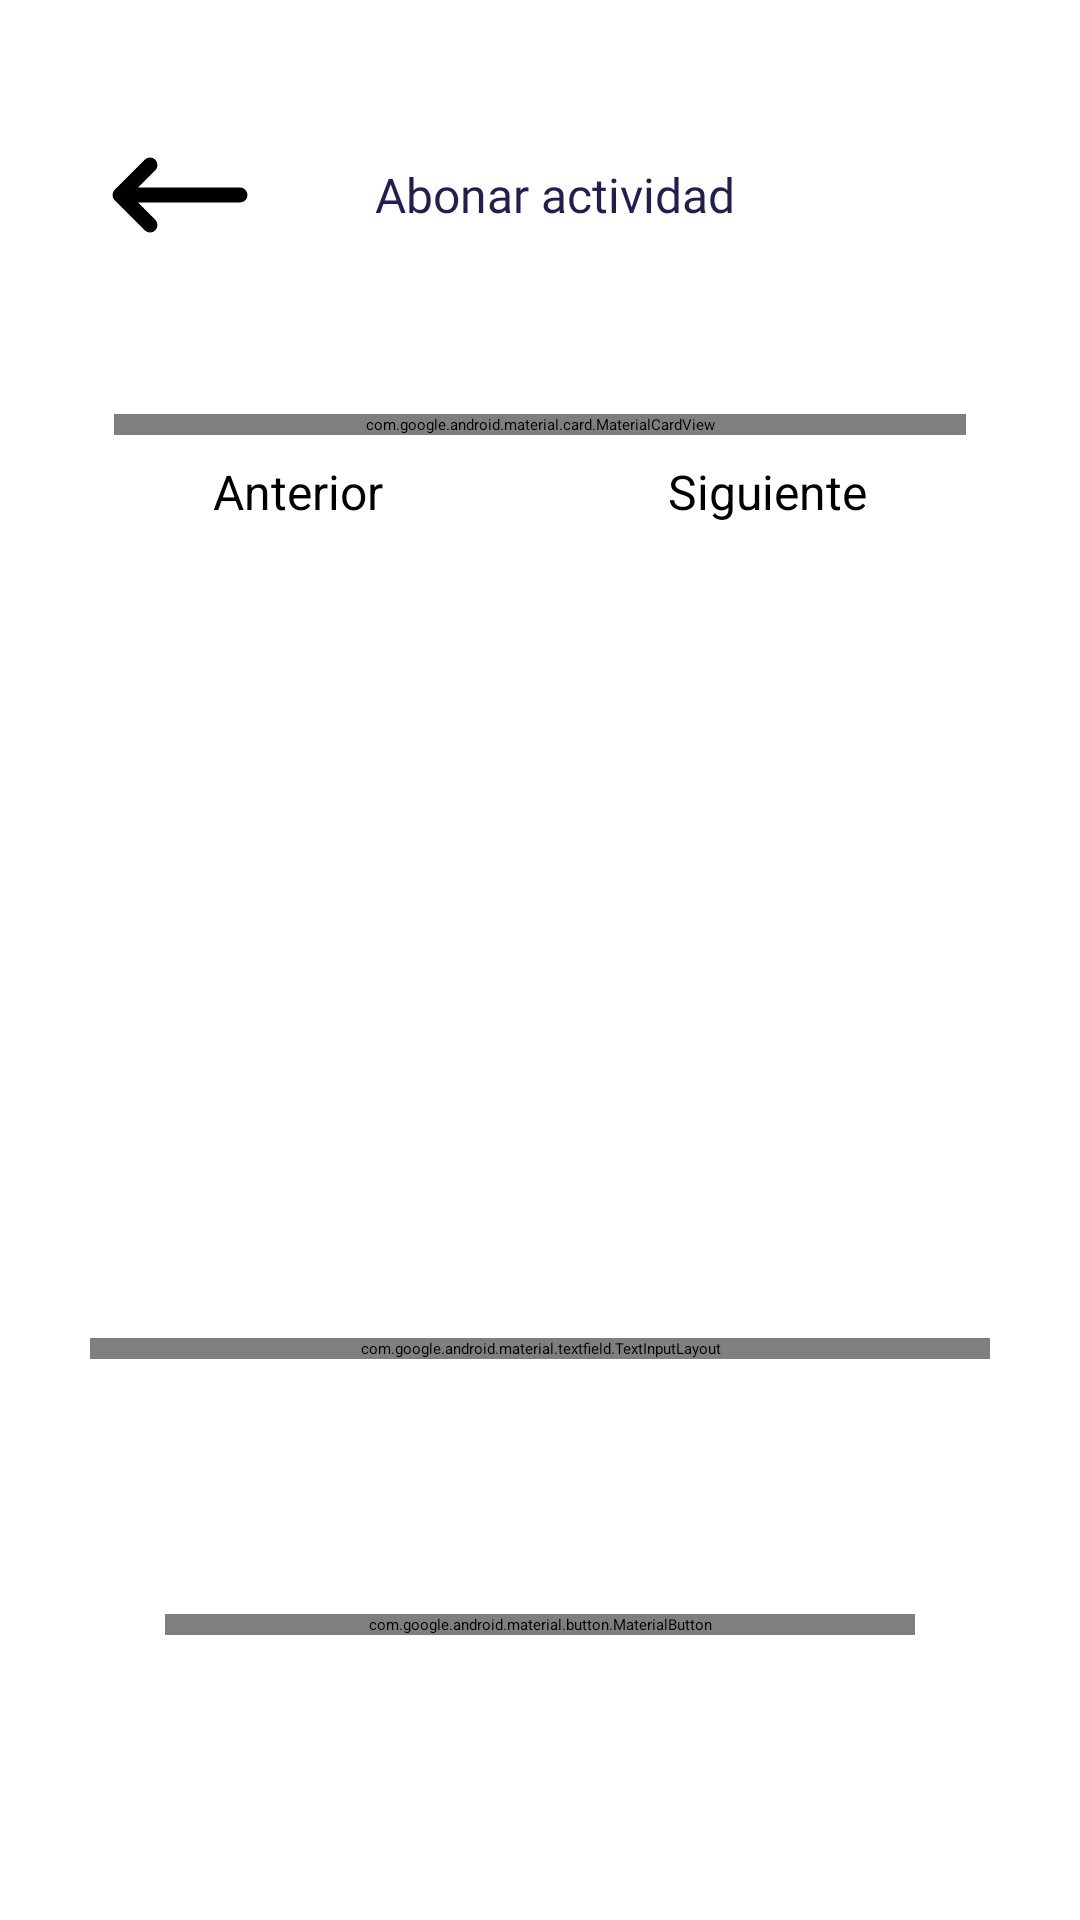

Icons on this 1080×1920 Android screen, each with its box as Rect(x1, y1, x2, y2):
icono de volver: Rect(112, 157, 248, 233)
